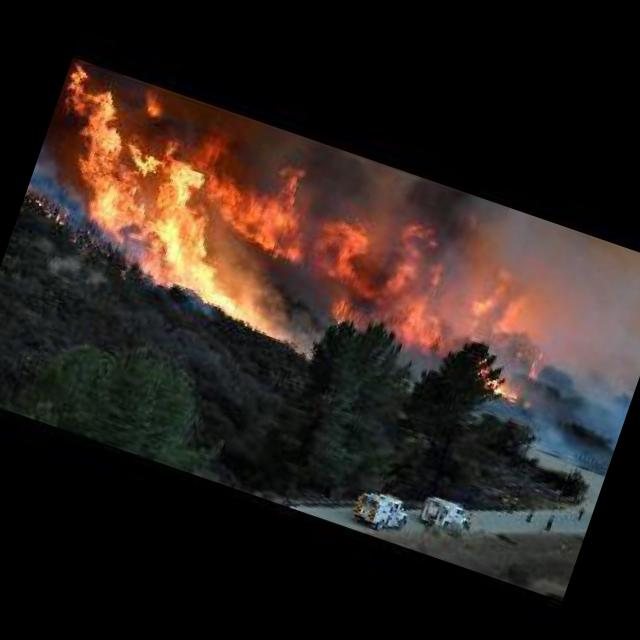fire: (7, 63, 580, 426)
